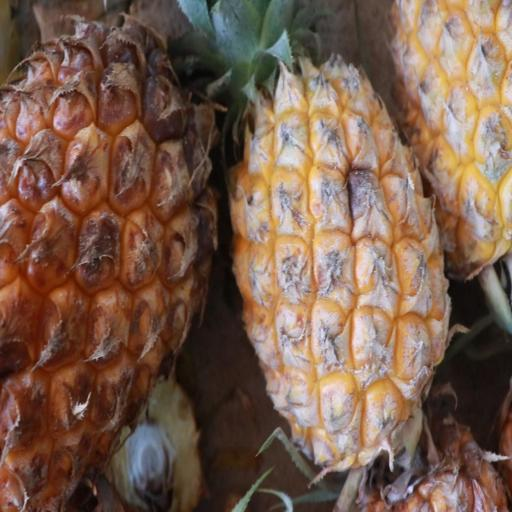Pineapple - v8 v1: (0, 0, 223, 512), (225, 22, 449, 500)
